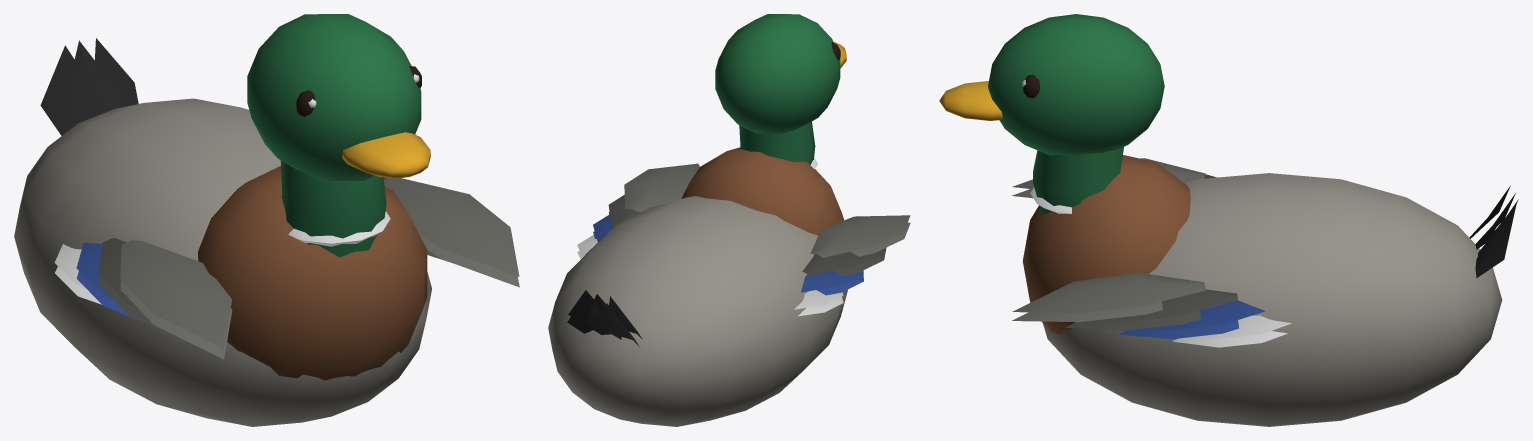
The model's file is flock-duck.glb.
3 renders of one model, left to right at view 1: azimuth 30°, elevation 25°; view 2: azimuth 150°, elevation 25°; view 3: azimuth 270°, elevation 25°, orthographic. The views are drawn at different scales.
Parts seen in each view (by area): view 1: flock-duck; view 2: flock-duck; view 3: flock-duck.
Part boxes in pixels (x1,y1,x2,y2): flock-duck: (14,14,519,426); flock-duck: (548,14,910,426); flock-duck: (939,14,1518,426).
Bounding box in the file's own units: 0.3332 × 0.4 × 0.5409.
